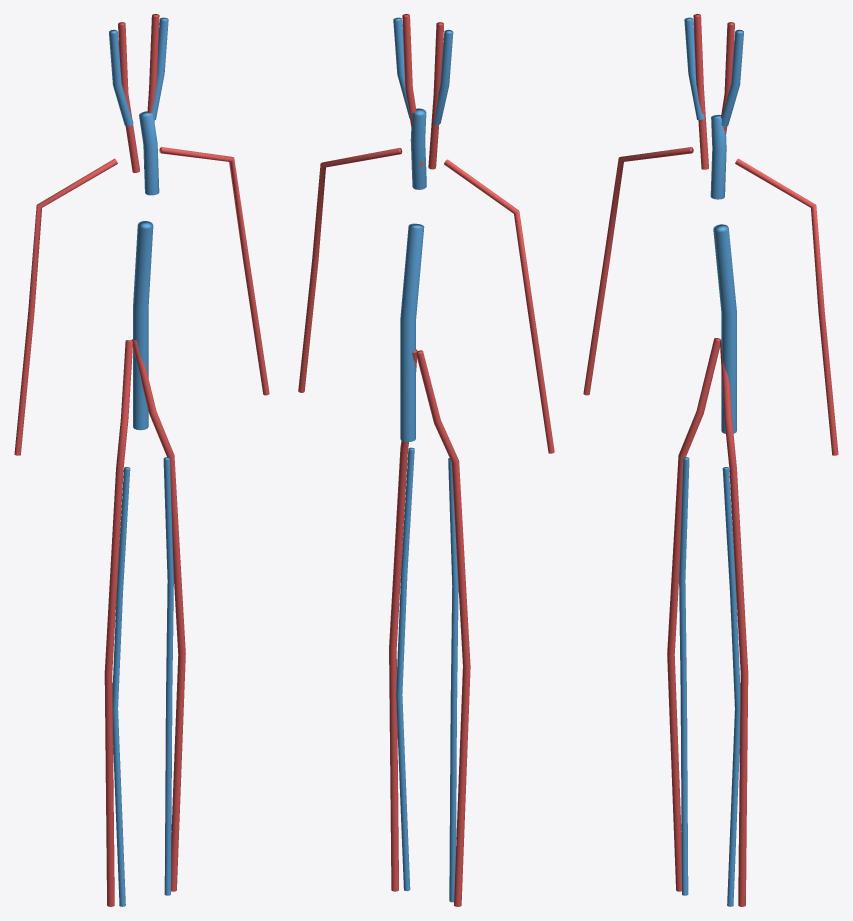
The model's file is cardiovascular_tree.glb.
The picture shows the model from 3 angles, left to right: view 1: azimuth 30°, elevation 25°; view 2: azimuth 150°, elevation 25°; view 3: azimuth 330°, elevation 25°; orthographic projection.
Visible parts, largest first — view 1: artery_femoral_l, artery_femoral_r, vein_great_saphenous_r, vein_great_saphenous_l, vein_inferior_vena_cava, artery_brachial_l, artery_brachial_r, vein_superior_vena_cava, artery_carotid_l, vein_jugular_l, vein_jugular_r, artery_carotid_r; view 2: artery_femoral_l, artery_femoral_r, vein_inferior_vena_cava, vein_great_saphenous_r, vein_great_saphenous_l, artery_brachial_l, artery_brachial_r, vein_superior_vena_cava, artery_carotid_l, vein_jugular_l, artery_carotid_r, vein_jugular_r; view 3: artery_femoral_r, artery_femoral_l, vein_great_saphenous_l, vein_great_saphenous_r, vein_inferior_vena_cava, artery_brachial_r, artery_brachial_l, vein_superior_vena_cava, artery_carotid_l, vein_jugular_r, vein_jugular_l, artery_carotid_r.
Part boxes in pixels (left/top/right/bottom): artery_femoral_l: left=104, top=340, right=132, bottom=906; artery_femoral_r: left=131, top=339, right=185, bottom=891; vein_great_saphenous_r: left=163, top=457, right=173, bottom=895; vein_great_saphenous_l: left=112, top=467, right=130, bottom=906; vein_inferior_vena_cava: left=133, top=221, right=153, bottom=430; artery_brachial_l: left=14, top=158, right=117, bottom=455; artery_brachial_r: left=159, top=147, right=269, bottom=395; vein_superior_vena_cava: left=139, top=111, right=159, bottom=195; artery_carotid_l: left=118, top=22, right=139, bottom=172; vein_jugular_l: left=109, top=29, right=133, bottom=126; vein_jugular_r: left=151, top=17, right=168, bottom=119; artery_carotid_r: left=144, top=14, right=159, bottom=168; artery_femoral_l: left=416, top=350, right=470, bottom=906; artery_femoral_r: left=389, top=349, right=417, bottom=891; vein_inferior_vena_cava: left=400, top=223, right=424, bottom=441; vein_great_saphenous_r: left=396, top=447, right=414, bottom=891; vein_great_saphenous_l: left=448, top=458, right=458, bottom=902; artery_brachial_l: left=444, top=159, right=554, bottom=453; artery_brachial_r: left=298, top=148, right=402, bottom=392; vein_superior_vena_cava: left=410, top=108, right=426, bottom=189; artery_carotid_l: left=428, top=22, right=443, bottom=169; vein_jugular_l: left=434, top=29, right=453, bottom=124; artery_carotid_r: left=402, top=14, right=424, bottom=166; vein_jugular_r: left=393, top=17, right=411, bottom=118; artery_femoral_r: left=720, top=341, right=748, bottom=906; artery_femoral_l: left=667, top=338, right=721, bottom=891; vein_great_saphenous_l: left=679, top=457, right=689, bottom=895; vein_great_saphenous_r: left=722, top=467, right=740, bottom=906; vein_inferior_vena_cava: left=713, top=224, right=736, bottom=433; artery_brachial_r: left=735, top=158, right=838, bottom=455; artery_brachial_l: left=583, top=147, right=693, bottom=395; vein_superior_vena_cava: left=710, top=114, right=726, bottom=199; artery_carotid_l: left=693, top=14, right=708, bottom=169; vein_jugular_r: left=721, top=29, right=743, bottom=126; vein_jugular_l: left=684, top=17, right=705, bottom=119; artery_carotid_r: left=721, top=22, right=734, bottom=134.
Size of the model in its own units: 0.4495 by 1.48 by 0.062.
